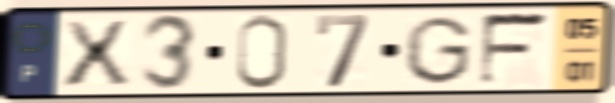0: (234, 11, 290, 93)
3: (139, 10, 200, 96)
7: (312, 11, 374, 91)
F: (475, 9, 554, 90)
G: (400, 13, 475, 87)
X: (57, 18, 135, 90)
